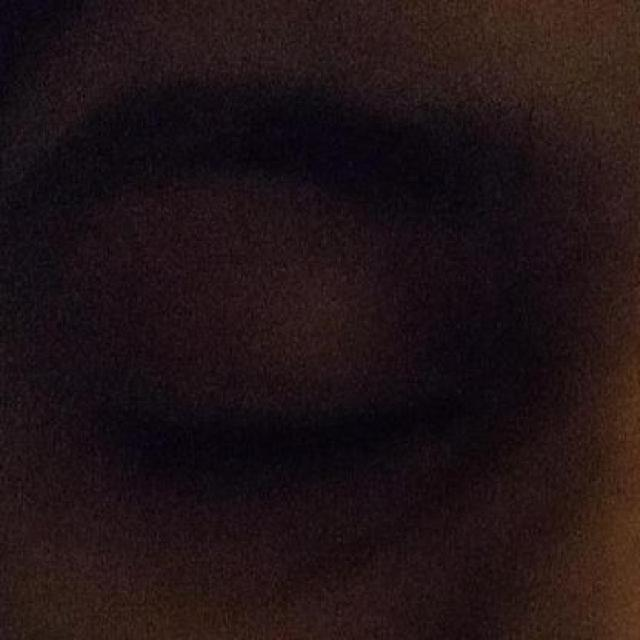drowsy: (60, 338, 455, 551)
